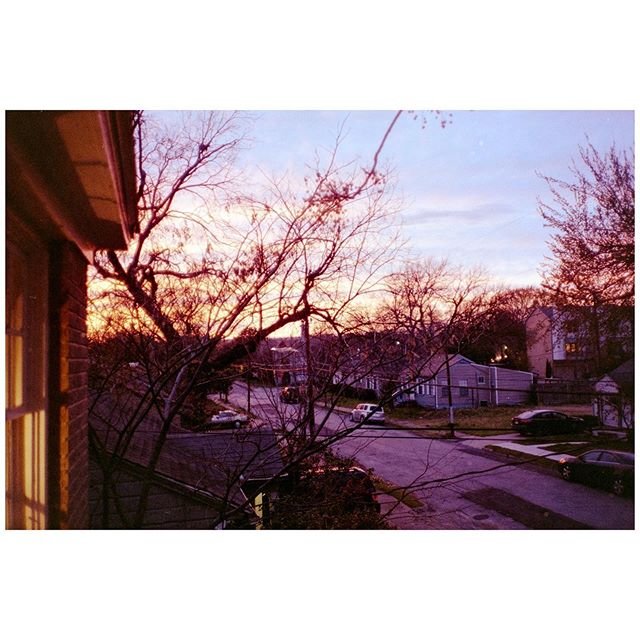building: (1, 124, 134, 531), (319, 346, 535, 427)
car: (558, 446, 639, 490), (512, 400, 593, 444)
sky: (136, 114, 639, 279)
tree: (117, 164, 358, 527), (343, 259, 483, 429)
